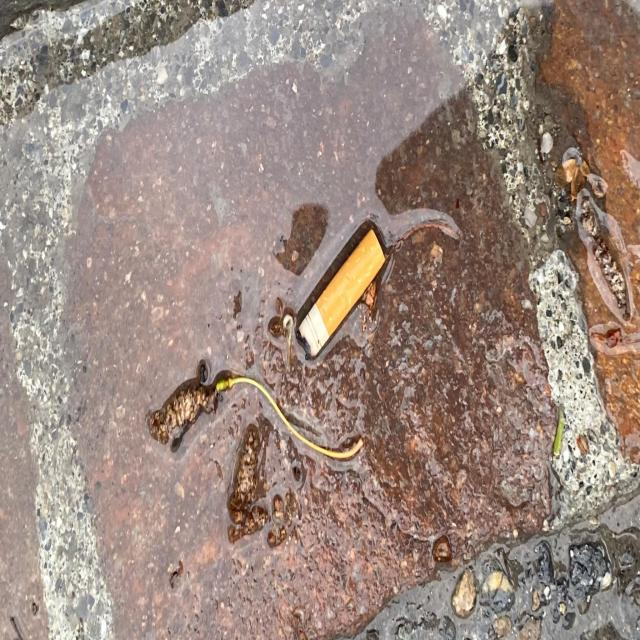other waste: (295, 226, 386, 361)
